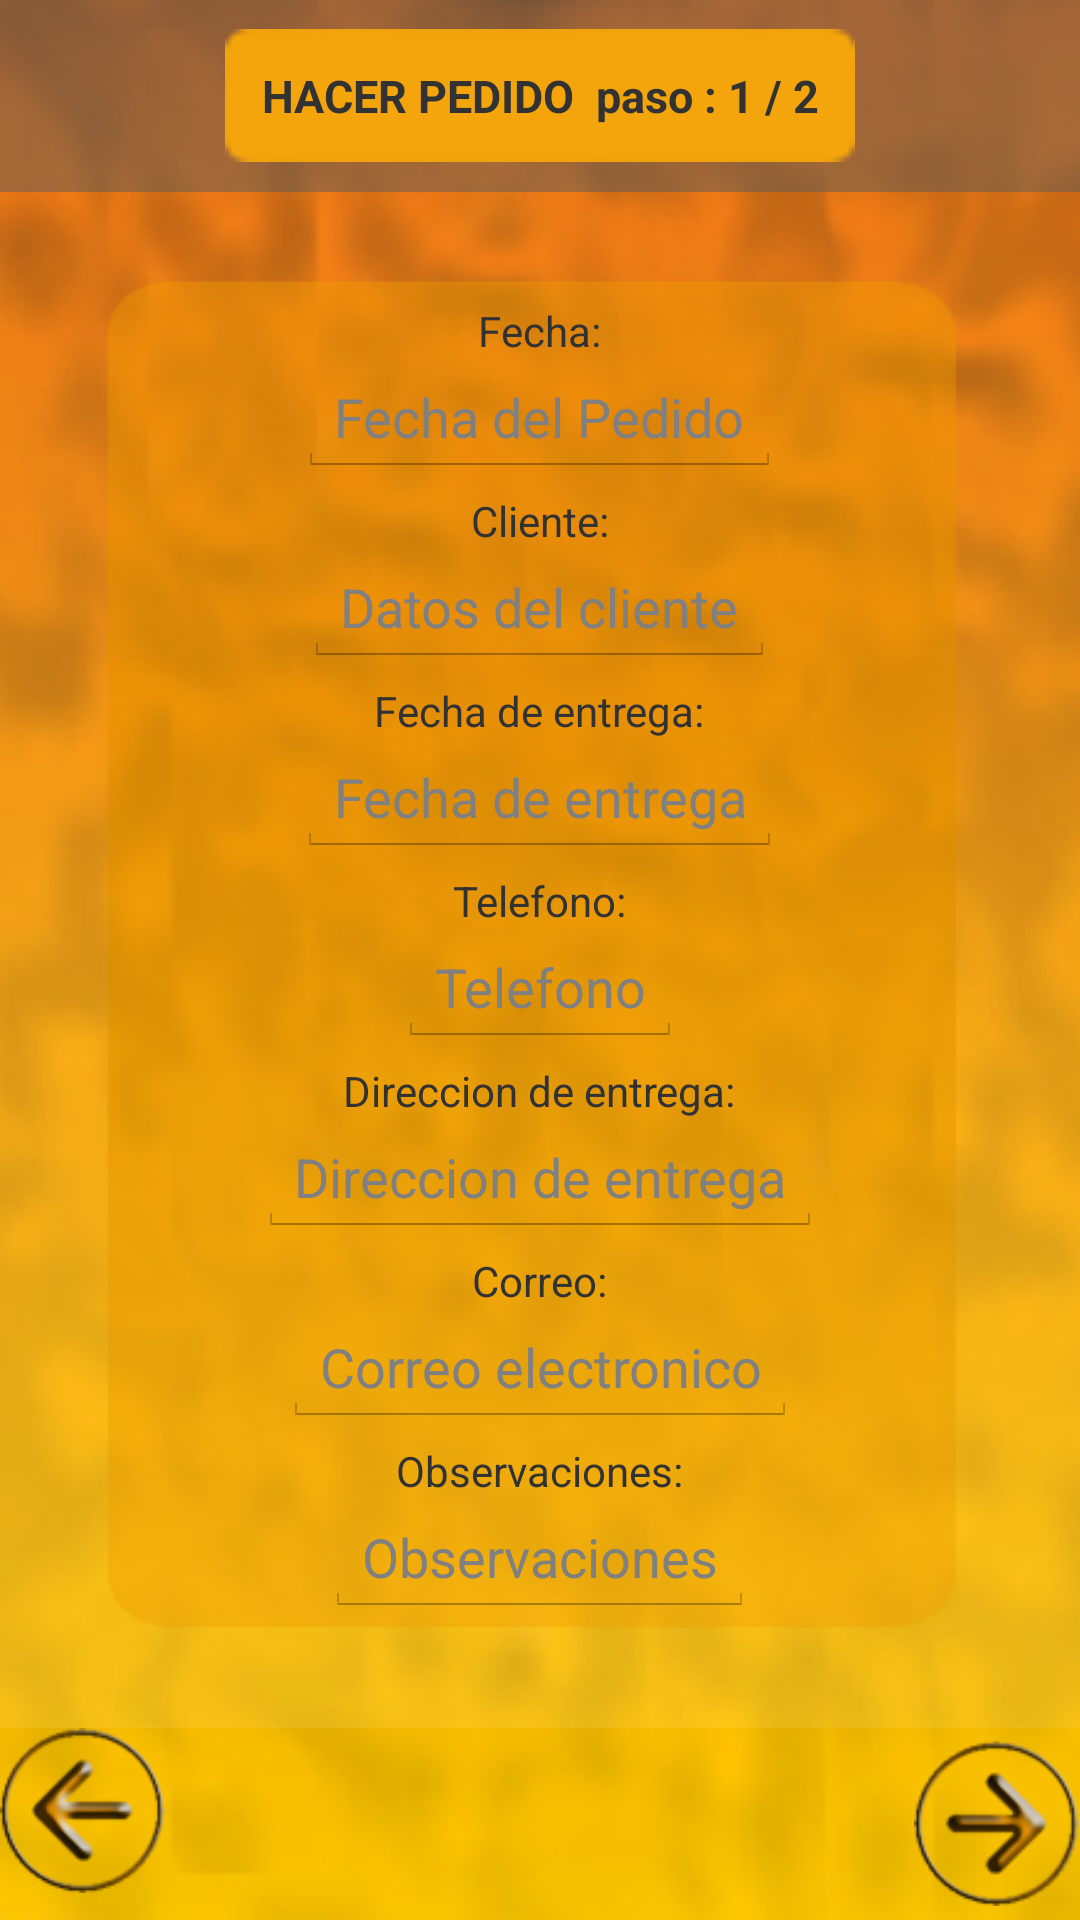

Icon bounding boxes for this 1080x1920 phone screenshot, format bbox(x1, y1, x2, y2):
goleft: bbox(0, 1728, 165, 1893)
goright: bbox(914, 1741, 1079, 1906)
